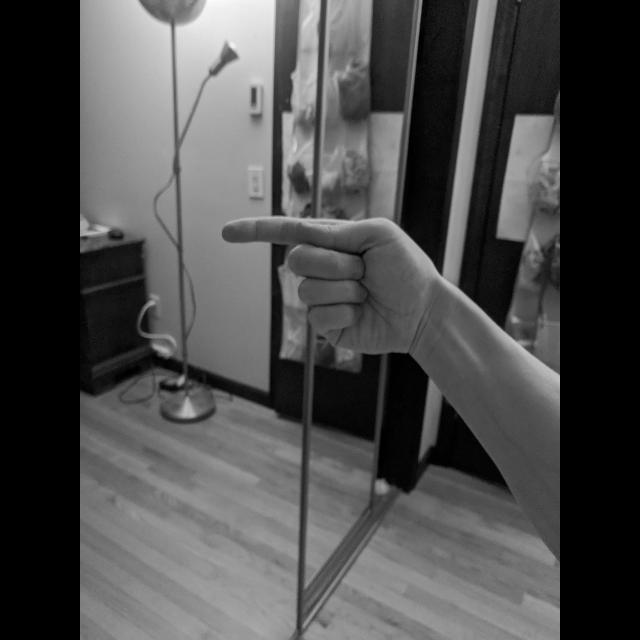G: (216, 210, 430, 362)
